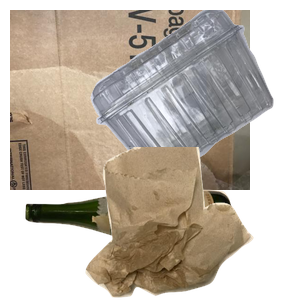cardboard: (10, 10, 250, 190)
glass: (23, 186, 249, 300)
plastic: (88, 10, 300, 180)
trash: (83, 147, 300, 300)
